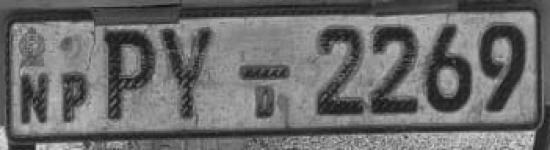-: (230, 61, 295, 84)
2: (307, 19, 369, 120), (367, 19, 423, 122)
6: (423, 16, 475, 119)
9: (476, 15, 530, 119)
N: (18, 72, 51, 126)
P: (100, 25, 158, 126), (53, 67, 94, 129)
Y: (157, 25, 222, 128)
